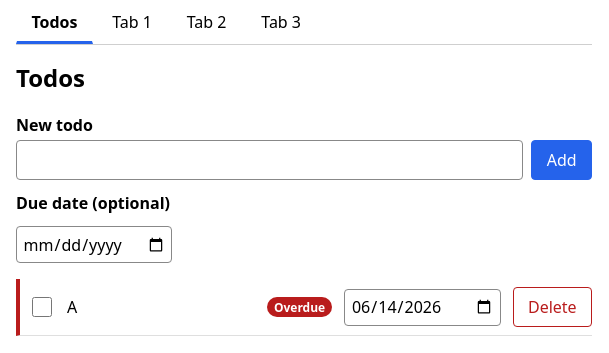
Test: UI19 due-date change › UI19 clearing the date sends null
The width and height of the screenshot is (609, 353).
Clear the date field named "Due date for \"A\"" at (422, 307), box [344,288,501,326]
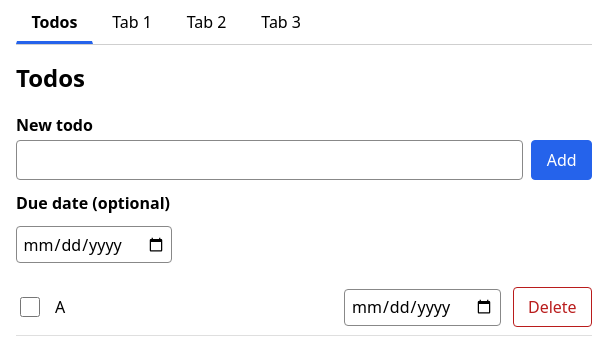
Now the text with class "overdue-badge" is gone
